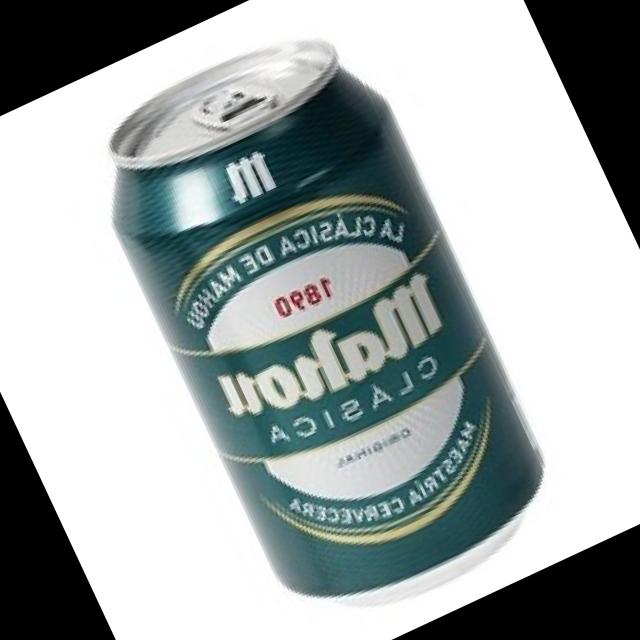Kaleng: (67, 2, 578, 636)
